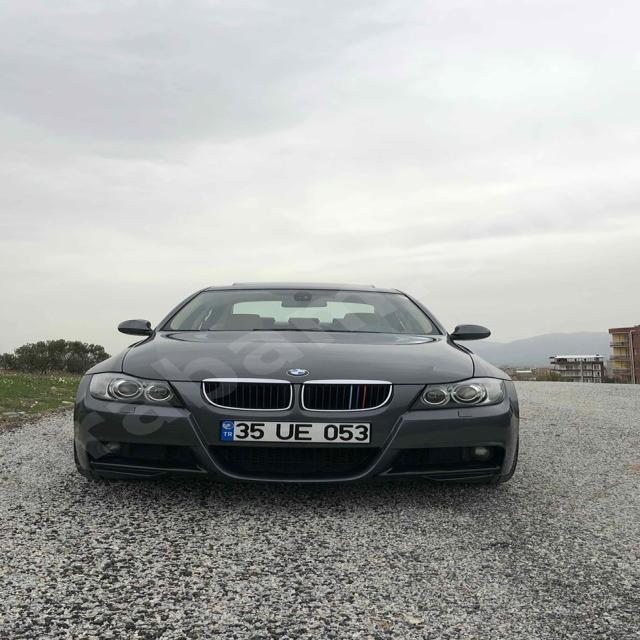license_plate: (218, 419, 372, 444)
